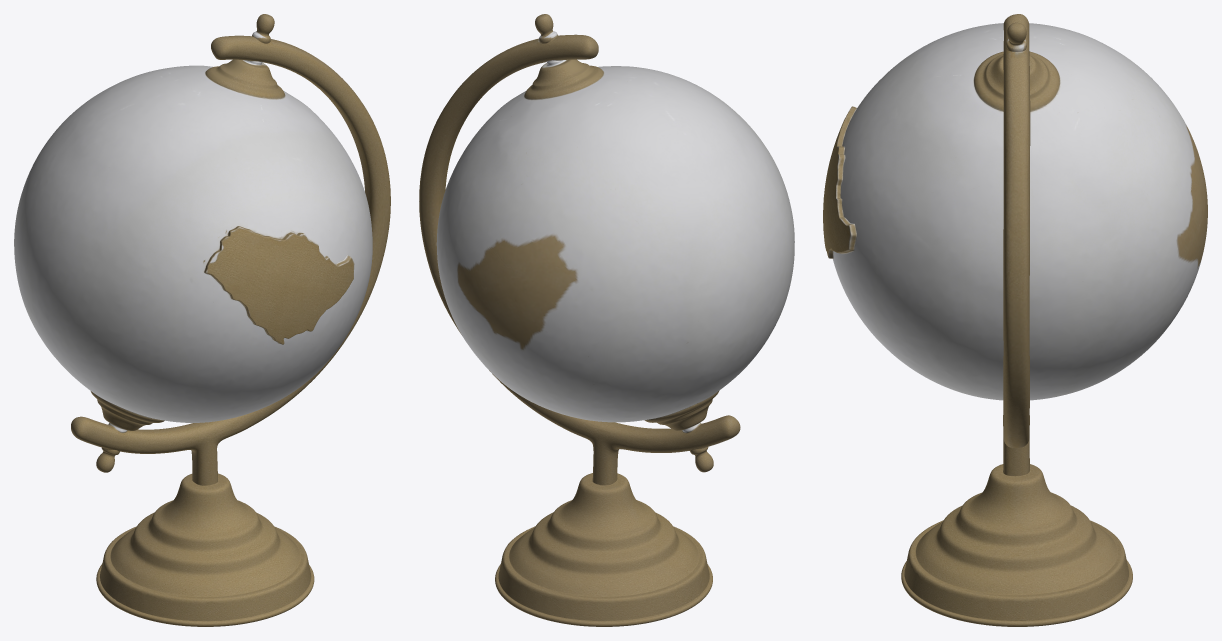
The model's file is 21-محور-الكون.glb.
The picture shows the model from 3 angles, left to right: view 1: azimuth 30°, elevation 25°; view 2: azimuth 150°, elevation 25°; view 3: azimuth 270°, elevation 25°; orthographic projection. The views are drawn at different scales.
Size of the model in its own units: 1.26 by 1.9 by 1.13.
Materials: 1 (1 with a texture image).
